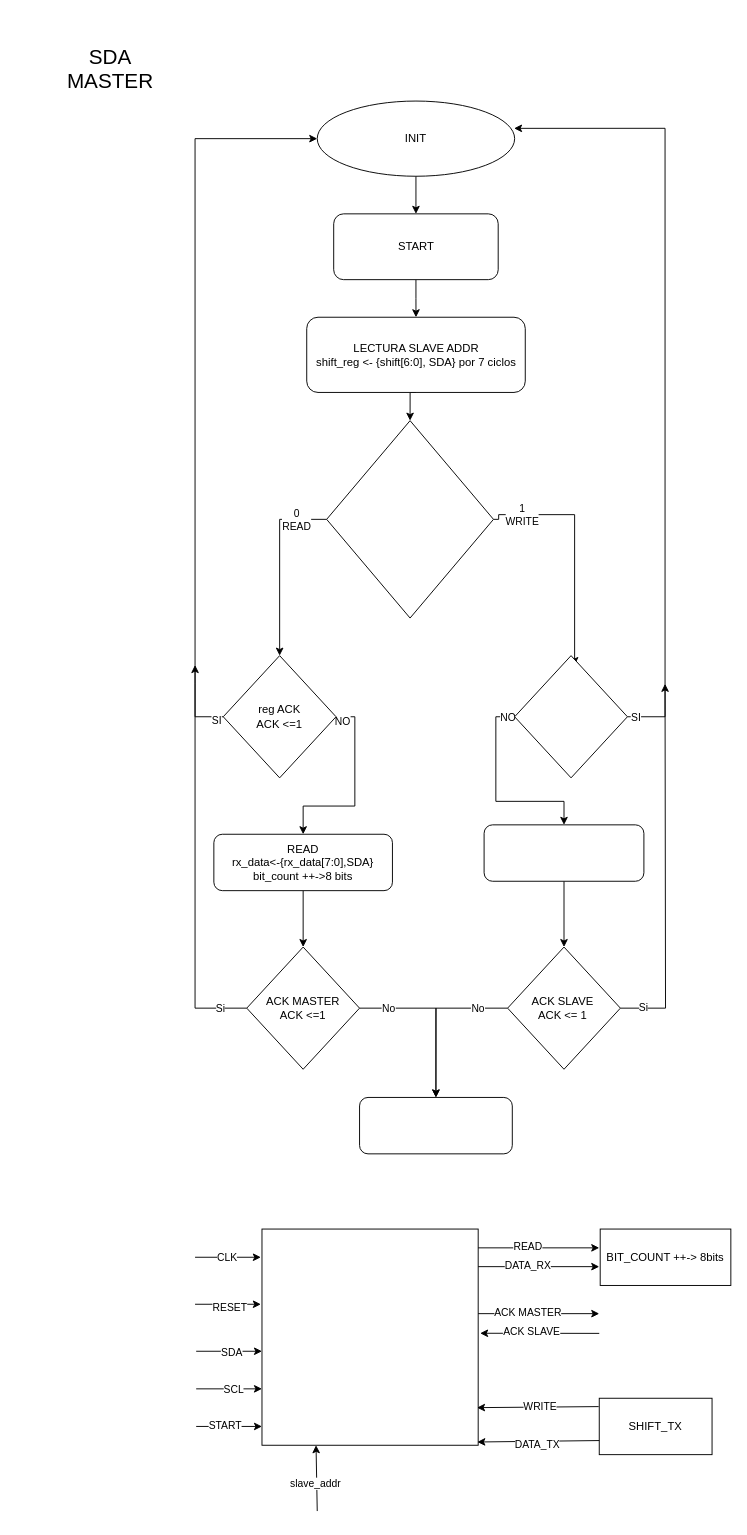
This 747x1535 diagram has some shape labels left out. The shapes that lost their labels are listed below. From the top down, each one's centre as x and y in pixels, then its label:
[410,519]: R/W bit 8 de SDA Bit ultimo de slave_addr
[570,716]: reg ACK ACK <= 1
[563,852]: WRITE SDA_OUT<- shift_tx[8] shift_tx<-{shift_tx[7:0],0}
[435,1125]: STOP SCL =1, SDA: 0->1
[369,1336]: CONTROL
